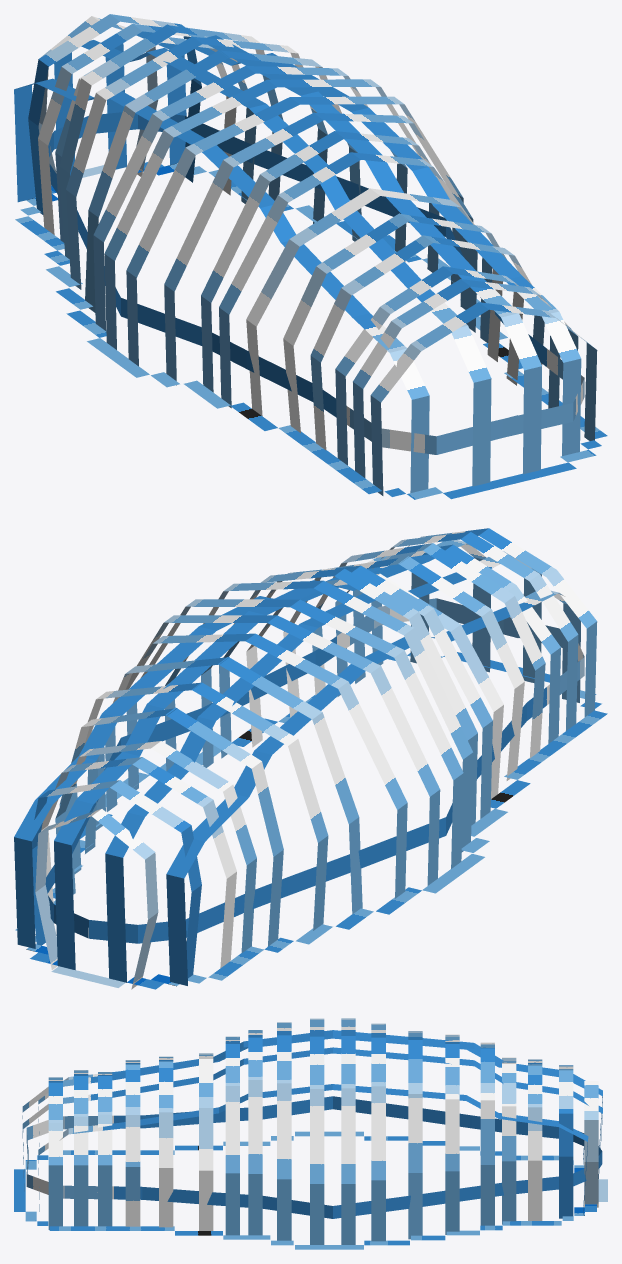
Rendered from soulcage_747x0.gltf.
3 renders of one model, top to bottom at view 1: azimuth 30°, elevation 25°; view 2: azimuth 150°, elevation 25°; view 3: azimuth 270°, elevation 25°, orthographic. The views are drawn at different scales.
Parts seen in each view (by area): view 1: soulcage_747x0.001; view 2: soulcage_747x0.001; view 3: soulcage_747x0.001.
Boxes of the visible parts, x1,y1,x2,y2 form: soulcage_747x0.001: (14,14,607,499); soulcage_747x0.001: (14,528,607,989); soulcage_747x0.001: (14,1018,607,1249).
Size of the model in its own units: 2.61 by 1.64 by 5.56.
Materials: 1 (1 with a texture image).
